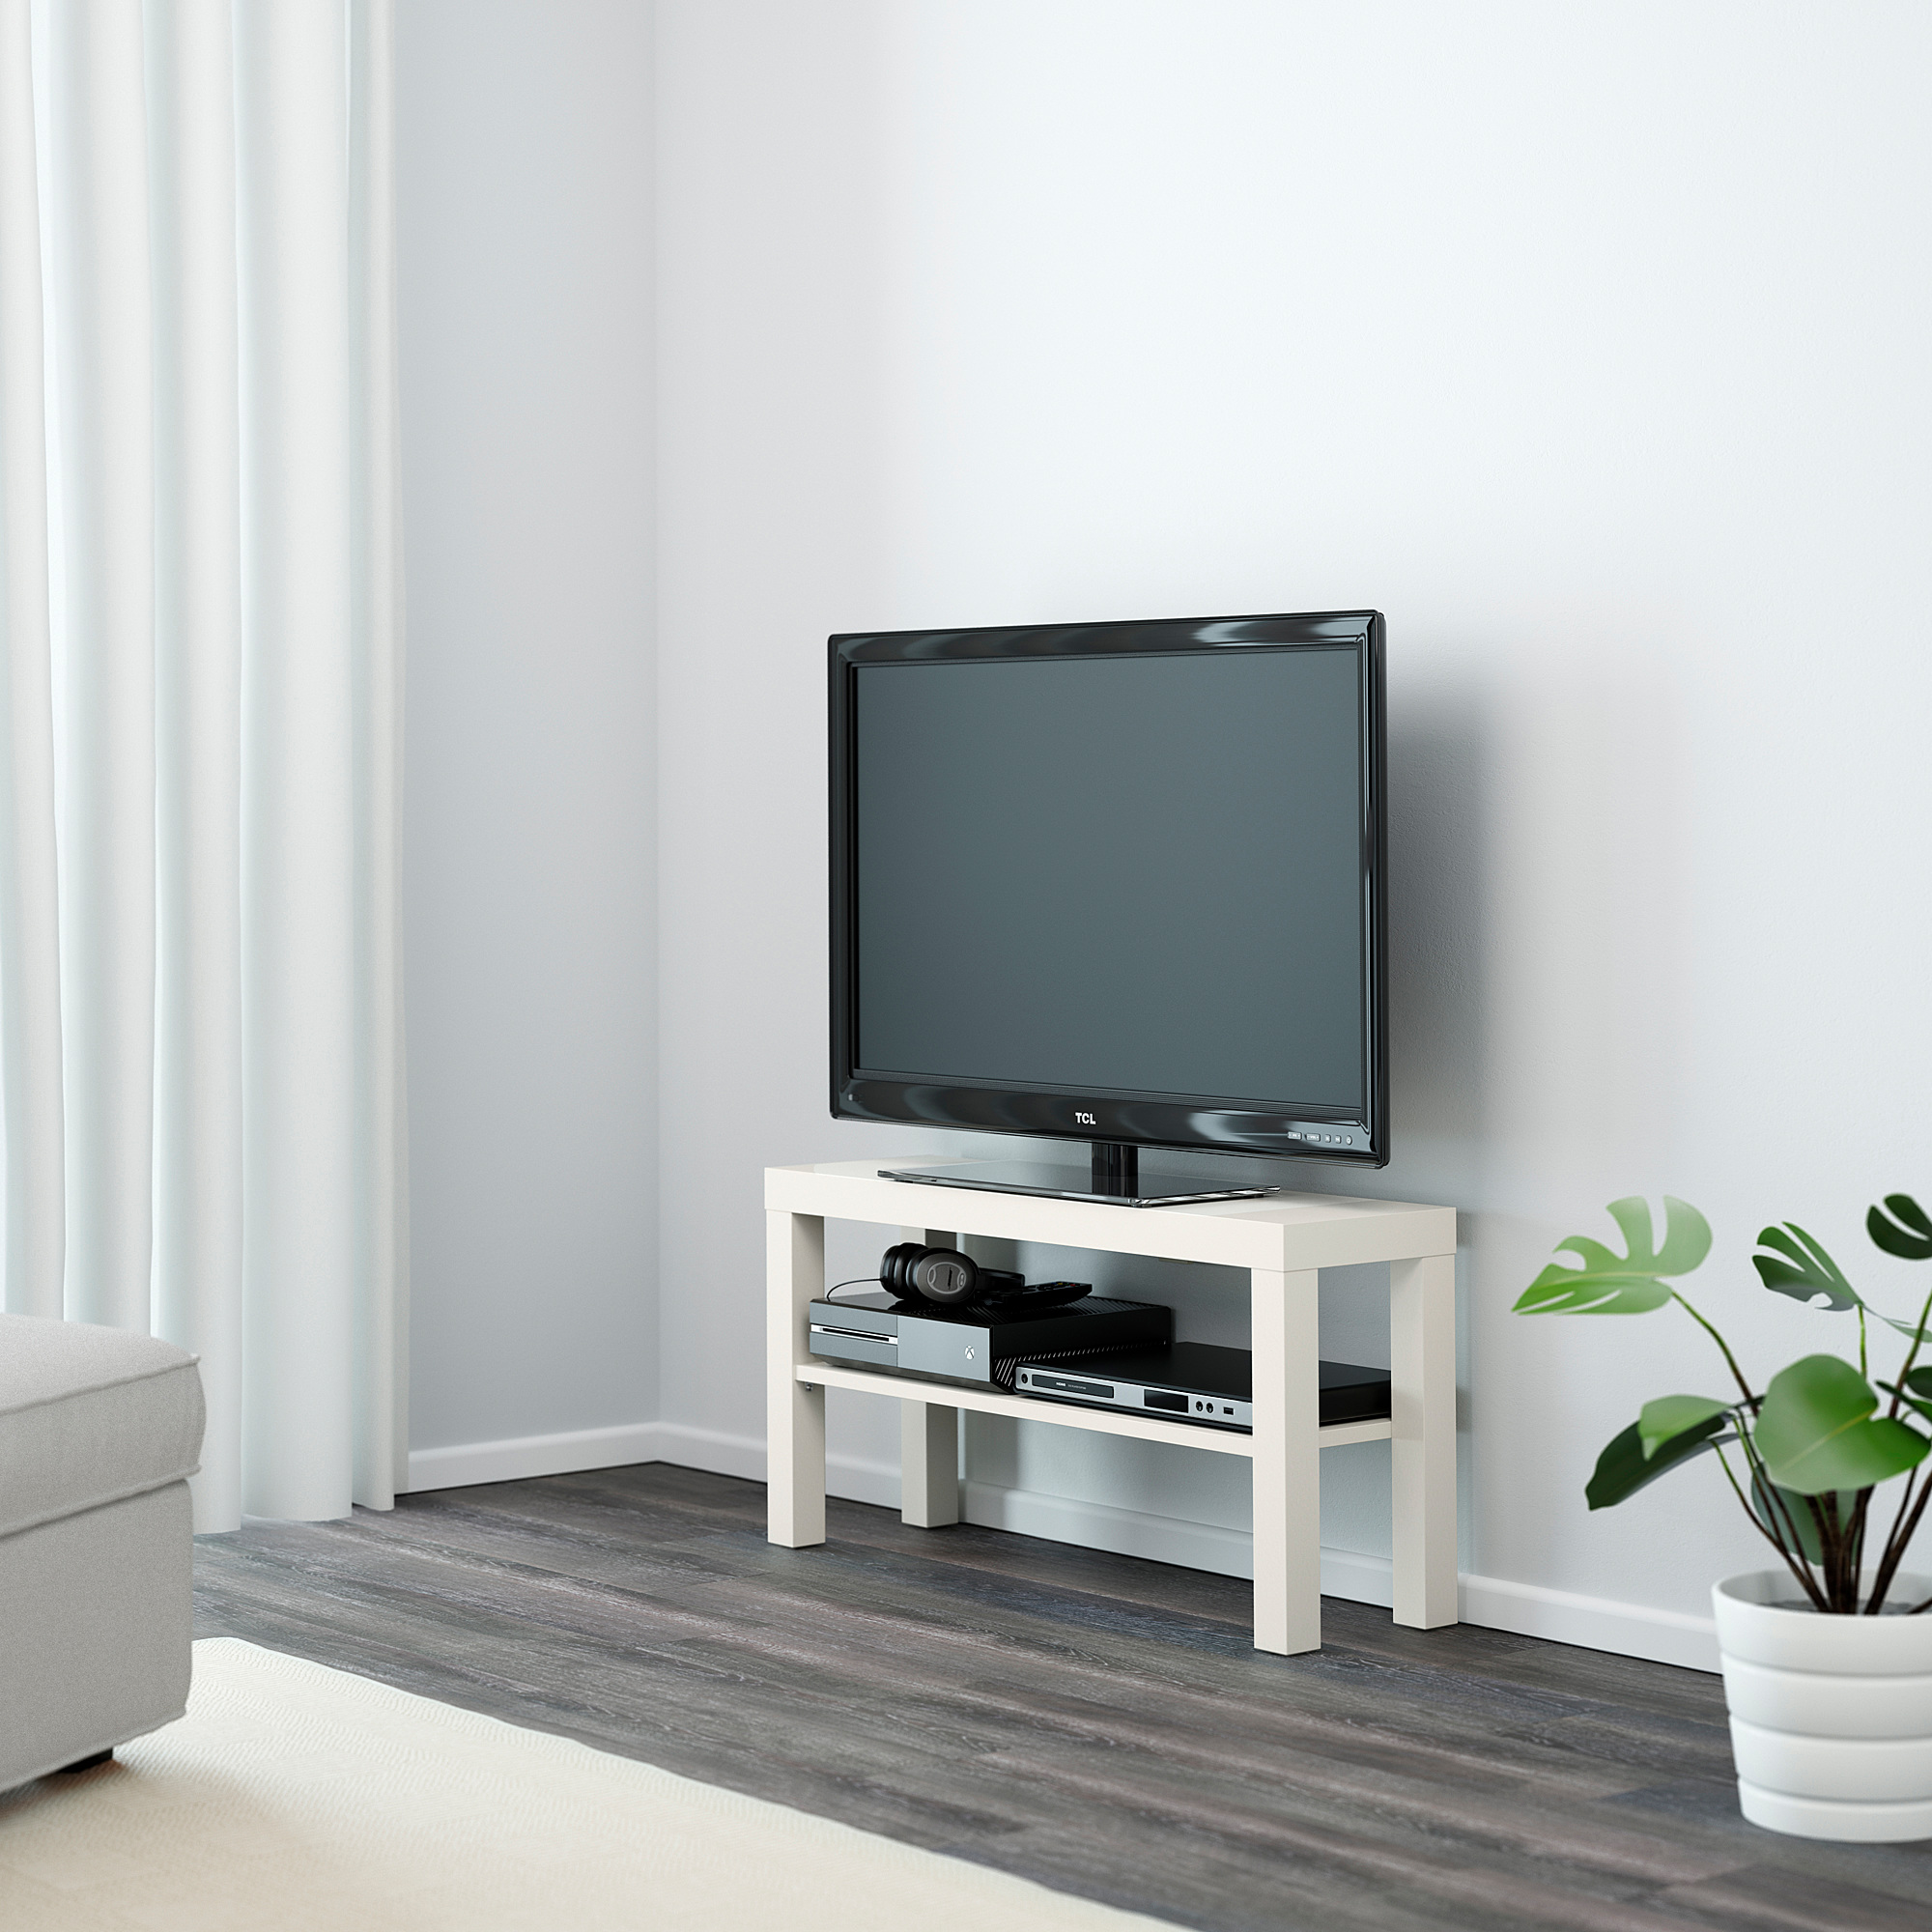tv: (798, 589, 1442, 1168)
